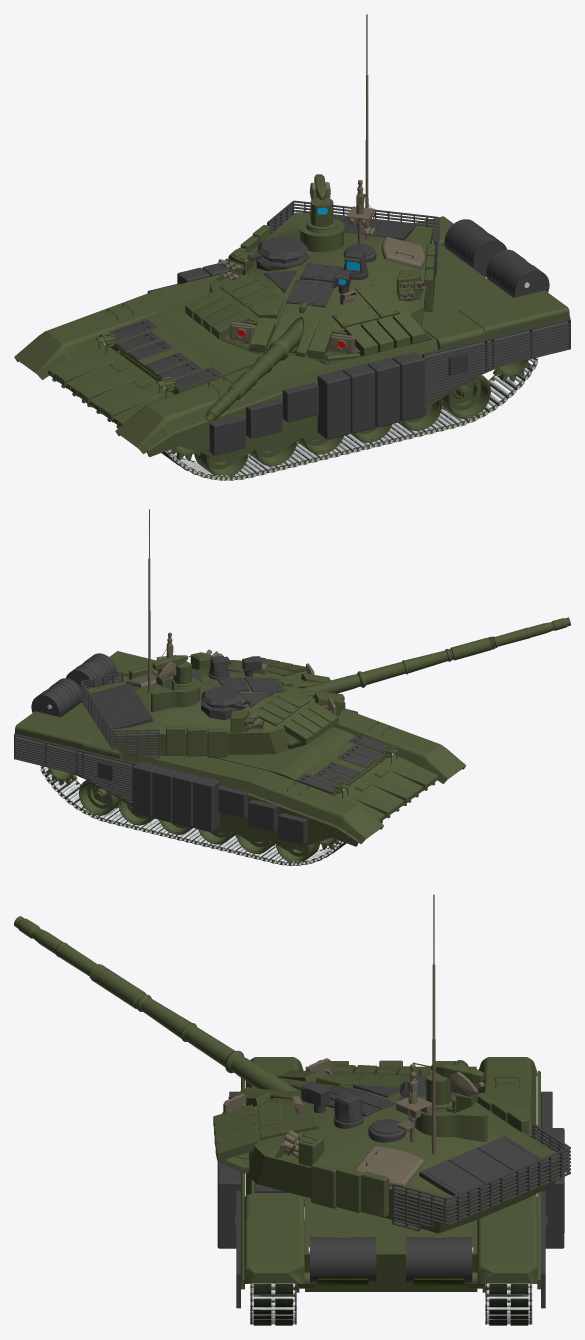
Rendered from tank_t-90_custom_design.glb.
The picture shows the model from 3 angles, top to bottom: view 1: azimuth 30°, elevation 25°; view 2: azimuth 150°, elevation 25°; view 3: azimuth 270°, elevation 25°; orthographic projection. The views are drawn at different scales.
Parts seen in each view (by area): view 1: Object_270, Object_262, Object_268, Object_265, Object_11, Object_151, Object_266, Object_9, Object_2, Object_267, Object_6, Object_269 (+25 smaller); view 2: Object_265, Object_270, Object_268, Object_10, Object_262, Object_269, Object_151, Object_17, Object_7, Object_2, Object_248, Object_267 (+17 smaller); view 3: Object_268, Object_265, Object_270, Object_262, Object_17, Object_269, Object_18, Object_247, Object_12, Object_13, Object_266, Object_245 (+19 smaller).
Boxes of the visible parts, left/top/right/bottom form: Object_270: left=48, top=245, right=512, bottom=428; Object_262: left=115, top=290, right=570, bottom=453; Object_268: left=209, top=212, right=432, bottom=362; Object_265: left=14, top=216, right=453, bottom=379; Object_11: left=422, top=318, right=570, bottom=404; Object_151: left=20, top=321, right=567, bottom=462; Object_266: left=308, top=312, right=426, bottom=360; Object_9: left=209, top=364, right=375, bottom=455; Object_2: left=108, top=319, right=282, bottom=419; Object_267: left=185, top=290, right=274, bottom=353; Object_6: left=177, top=267, right=350, bottom=439; Object_269: left=205, top=318, right=302, bottom=421; Object_265: left=14, top=711, right=383, bottom=843; Object_270: left=61, top=674, right=438, bottom=822; Object_268: left=87, top=660, right=314, bottom=757; Object_10: left=14, top=734, right=199, bottom=827; Object_262: left=109, top=651, right=466, bottom=783; Object_269: left=301, top=617, right=570, bottom=693; Object_151: left=16, top=736, right=461, bottom=851; Object_17: left=80, top=672, right=159, bottom=758; Object_7: left=132, top=761, right=307, bottom=845; Object_2: left=248, top=734, right=388, bottom=815; Object_248: left=166, top=726, right=227, bottom=757; Object_267: left=283, top=693, right=345, bottom=748; Object_268: left=247, top=1075, right=559, bottom=1233; Object_265: left=477, top=1057, right=537, bottom=1283; Object_270: left=304, top=1060, right=477, bottom=1291; Object_262: left=244, top=1057, right=304, bottom=1283; Object_17: left=392, top=1124, right=570, bottom=1231; Object_269: left=14, top=916, right=298, bottom=1090; Object_18: left=419, top=1136, right=546, bottom=1199; Object_247: left=311, top=1162, right=389, bottom=1217; Object_12: left=310, top=1237, right=376, bottom=1283; Object_13: left=406, top=1237, right=472, bottom=1283; Object_266: left=213, top=1091, right=270, bottom=1173; Object_245: left=415, top=1082, right=488, bottom=1141.
Size of the model in its own units: 1.6 by 1.17 by 1.43.
10 materials, 3 textured.
